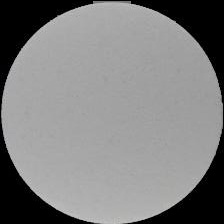54505-333: (0, 0, 224, 224)
